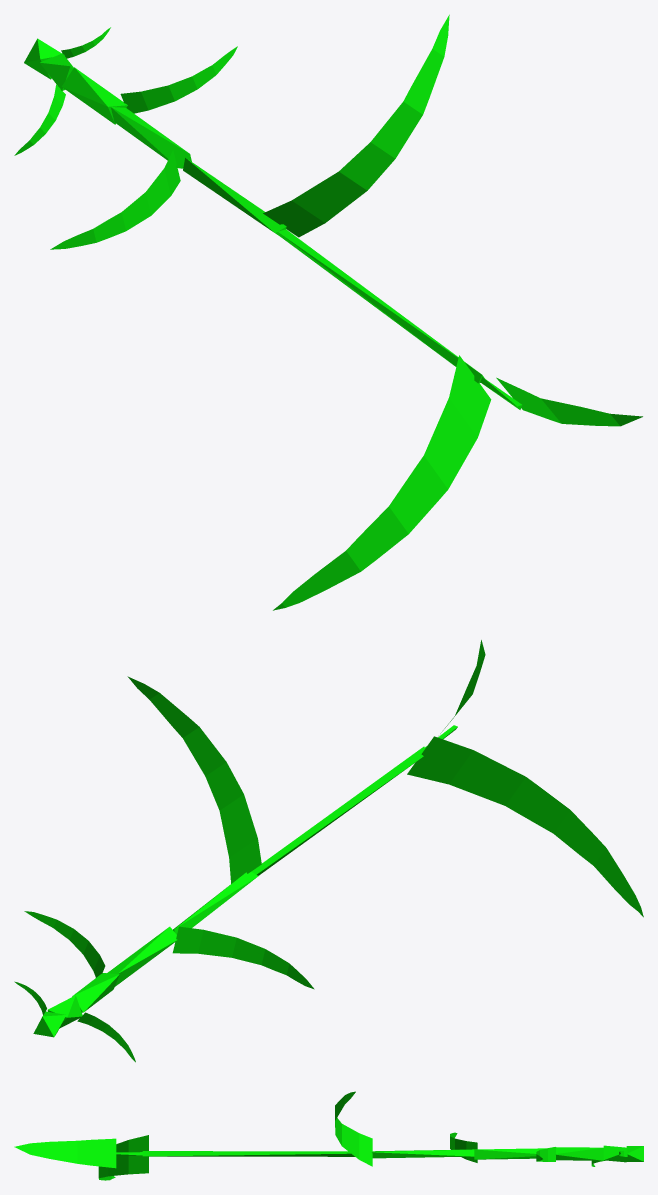
The model's file is usm_26_2.5D_2018-08-14_1.obj.
3 renders of one model, top to bottom at view 1: azimuth 30°, elevation 25°; view 2: azimuth 150°, elevation 25°; view 3: azimuth 270°, elevation 25°, orthographic. The views are drawn at different scales.
Visible parts, largest first — view 1: vid_14, vid_12, vid_10, vid_13, vid_16, vid_8, vid_9, vid_11, vid_7; view 2: vid_14, vid_12, vid_10, vid_13, vid_9, vid_8, vid_11, vid_7; view 3: vid_16, vid_14, vid_13, vid_12, vid_11, vid_9, vid_7, vid_10, vid_5, vid_3, vid_8.
Part boxes in pixels (x1,y1,x2,y2): vid_14: [273, 355, 491, 610]; vid_12: [263, 14, 449, 237]; vid_10: [50, 150, 180, 249]; vid_13: [278, 229, 484, 383]; vid_16: [496, 377, 642, 426]; vid_8: [120, 46, 237, 113]; vid_9: [111, 107, 191, 168]; vid_11: [183, 158, 286, 237]; vid_7: [62, 67, 127, 124]; vid_14: [407, 736, 643, 917]; vid_12: [127, 676, 261, 883]; vid_10: [172, 926, 314, 989]; vid_13: [251, 746, 424, 875]; vid_9: [107, 926, 177, 986]; vid_8: [24, 911, 105, 977]; vid_11: [173, 871, 258, 934]; vid_7: [72, 973, 119, 1012]; vid_16: [14, 1138, 116, 1168]; vid_14: [98, 1135, 148, 1180]; vid_13: [142, 1151, 354, 1156]; vid_12: [335, 1091, 372, 1166]; vid_11: [371, 1149, 474, 1158]; vid_9: [474, 1148, 545, 1159]; vid_7: [555, 1147, 603, 1160]; vid_10: [450, 1132, 477, 1162]; vid_5: [603, 1145, 626, 1162]; vid_3: [626, 1146, 643, 1161]; vid_8: [536, 1147, 555, 1161].
Size of the model in its own units: 55.39 by 46.58 by 137.
